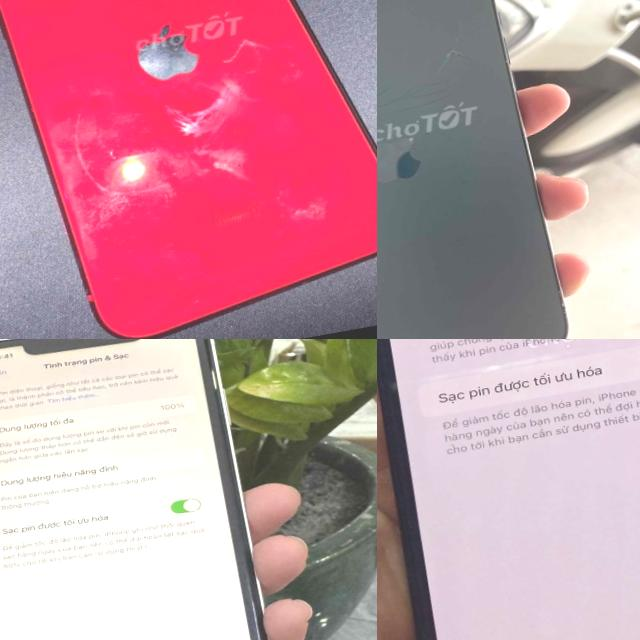gen_11: (0, 0, 377, 339)
gen_12_13: (377, 339, 640, 640), (377, 0, 592, 339)
gen_x_xs: (0, 339, 288, 640)
physical_damage: (377, 42, 484, 130)
